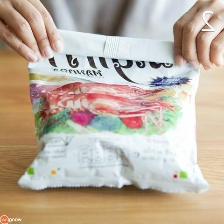snack: (9, 21, 217, 201)
